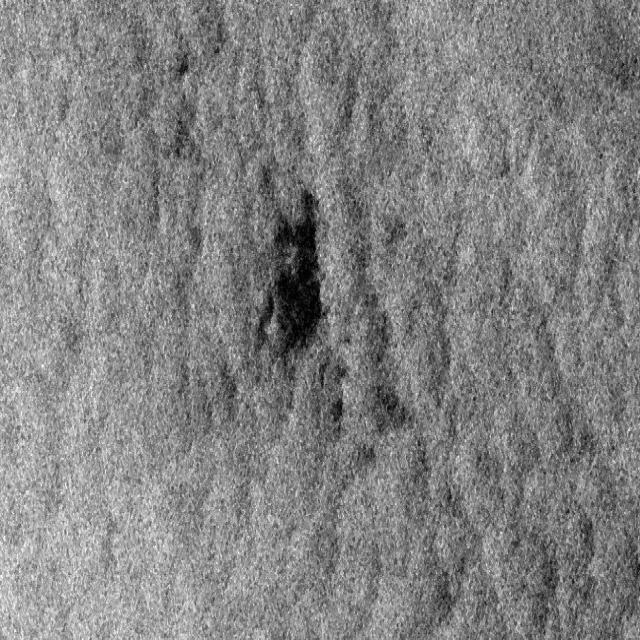look-alike: (253, 195, 355, 447)
